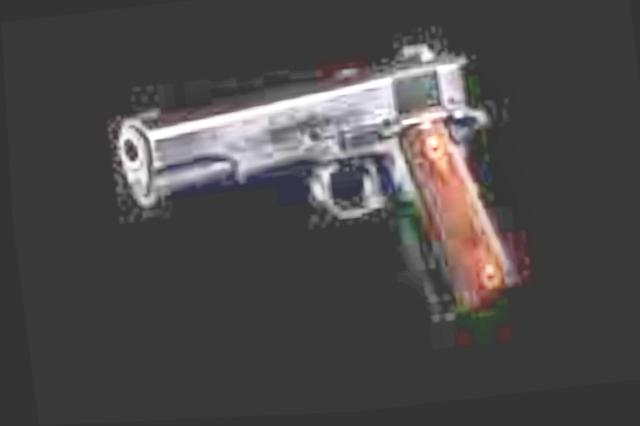pistol: (103, 38, 511, 350)
